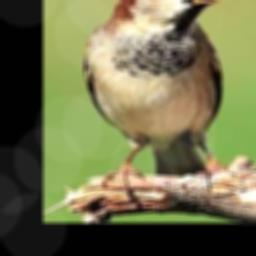Sparrow: (84, 0, 235, 195)
